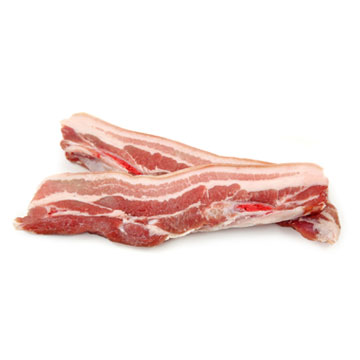bacon: (29, 110, 334, 267)
